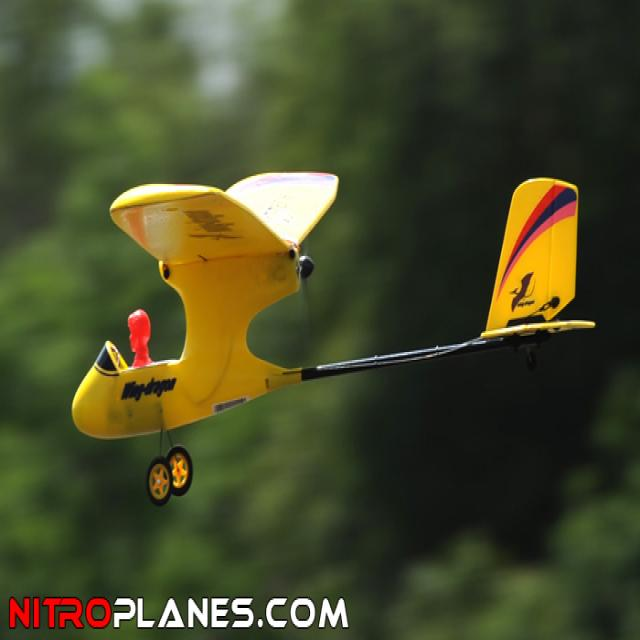iha: (69, 166, 598, 509)
